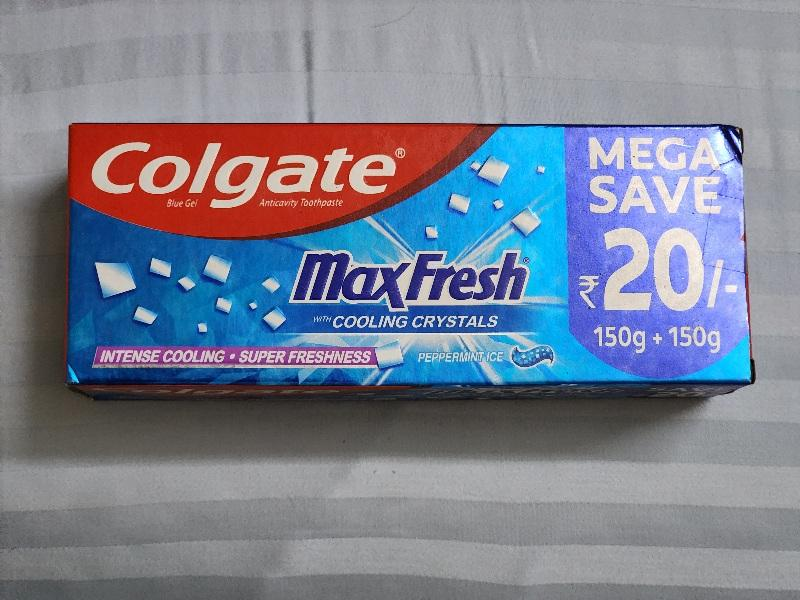Colgate: (69, 124, 751, 385)
